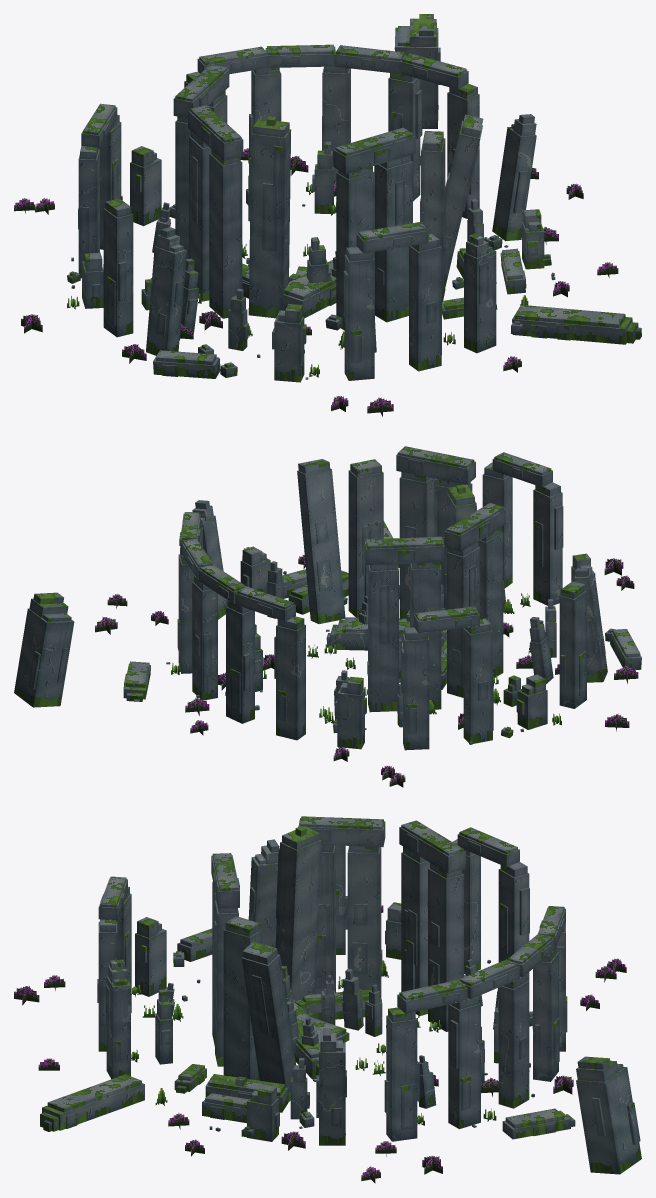
File: stone_circle_ruins.glb
The picture shows the model from 3 angles, top to bottom: view 1: azimuth 30°, elevation 25°; view 2: azimuth 150°, elevation 25°; view 3: azimuth 270°, elevation 25°; orthographic projection. The views are drawn at different scales.
Visible parts, largest first — view 1: trilithon_1_upright_left_core, trilithon_3_upright_right_core, trilithon_2_upright_right_core, sarsen_10_core, sarsen_11_core, trilithon_2_upright_left_core, sarsen_14_core, sarsen_15_core, sarsen_5_core, sarsen_9_core, trilithon_3_upright_left_core, trilithon_4_upright_left_core (+44 smaller); view 2: trilithon_4_upright_right_core, trilithon_5_upright_left_core, heel_stone_core, trilithon_4_upright_left_core, sarsen_17_core, sarsen_0_core, trilithon_3_upright_left_core, sarsen_18_core, sarsen_15_core, trilithon_3_upright_right_core, sarsen_1_core, sarsen_11_core (+39 smaller); view 3: trilithon_1_upright_left_core, heel_stone_core, trilithon_4_upright_right_core, trilithon_4_upright_left_core, trilithon_5_upright_left_core, trilithon_3_upright_left_core, sarsen_2_core, sarsen_3_core, sarsen_4_core, sarsen_1_core, trilithon_5_upright_right_core, sarsen_5_core (+50 smaller).
Boxes of the visible parts, bbox=[...] form: trilithon_1_upright_left_core: bbox=[248, 129, 291, 318]; trilithon_3_upright_right_core: bbox=[209, 153, 242, 318]; trilithon_2_upright_right_core: bbox=[374, 161, 412, 322]; sarsen_10_core: bbox=[409, 246, 441, 371]; sarsen_11_core: bbox=[344, 254, 374, 380]; trilithon_2_upright_left_core: bbox=[336, 171, 374, 330]; sarsen_14_core: bbox=[146, 246, 186, 355]; sarsen_15_core: bbox=[103, 208, 133, 337]; sarsen_5_core: bbox=[492, 127, 536, 241]; sarsen_9_core: bbox=[464, 249, 496, 353]; trilithon_3_upright_left_core: bbox=[189, 136, 211, 301]; trilithon_4_upright_left_core: bbox=[421, 138, 445, 303]; trilithon_4_upright_right_core: bbox=[297, 468, 345, 623]; trilithon_5_upright_left_core: bbox=[368, 565, 398, 712]; heel_stone_core: bbox=[14, 608, 74, 707]; trilithon_4_upright_left_core: bbox=[348, 470, 383, 617]; sarsen_17_core: bbox=[463, 628, 492, 743]; sarsen_0_core: bbox=[276, 624, 305, 740]; trilithon_3_upright_left_core: bbox=[447, 547, 480, 697]; sarsen_18_core: bbox=[403, 633, 429, 750]; sarsen_15_core: bbox=[559, 590, 586, 708]; trilithon_3_upright_right_core: bbox=[478, 532, 503, 677]; sarsen_1_core: bbox=[226, 606, 254, 723]; sarsen_11_core: bbox=[533, 489, 562, 605]; trilithon_1_upright_left_core: bbox=[275, 840, 321, 1001]; heel_stone_core: bbox=[576, 1067, 641, 1174]; trilithon_4_upright_right_core: bbox=[242, 954, 295, 1102]; trilithon_4_upright_left_core: bbox=[223, 929, 262, 1080]; trilithon_5_upright_left_core: bbox=[428, 868, 463, 1031]; trilithon_3_upright_left_core: bbox=[347, 847, 381, 998]; sarsen_2_core: bbox=[498, 980, 529, 1108]; sarsen_3_core: bbox=[448, 1003, 480, 1129]; sarsen_4_core: bbox=[386, 1015, 417, 1141]; sarsen_1_core: bbox=[533, 952, 558, 1081]; trilithon_5_upright_right_core: bbox=[401, 852, 429, 1016]; sarsen_5_core: bbox=[319, 1042, 345, 1145].
Size of the model in its own units: 15.17 by 4.97 by 14.7.
Materials: 1 (1 with a texture image).
